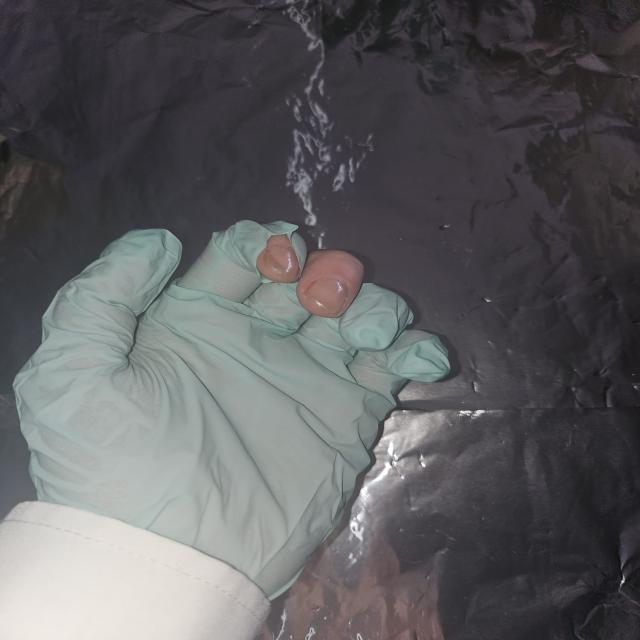gloves_damaged: (9, 218, 457, 603)
